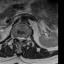CCS_normal: (19, 34, 22, 45)
LFS_normal: (24, 34, 27, 43)
LLS_normal: (22, 34, 24, 43)
RFS_stenosis: (14, 33, 17, 40)
RLS_normal: (17, 34, 19, 42)
